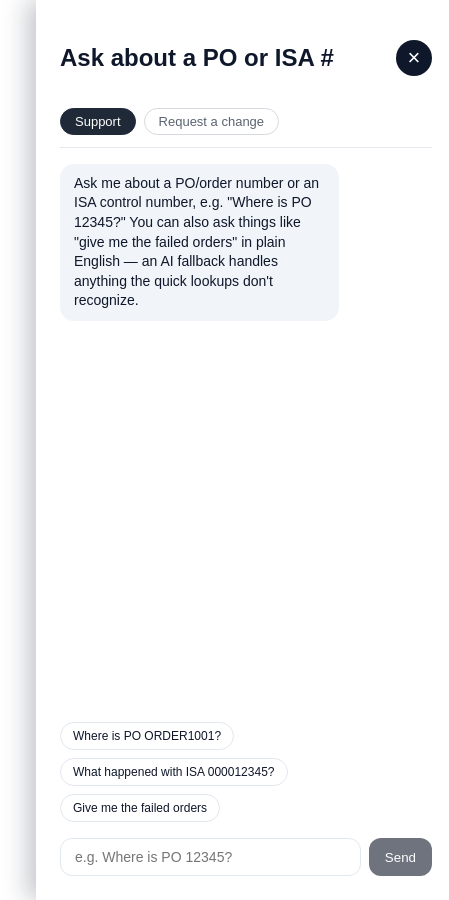
Scenario: ChatPanel › sends a question and shows the bot reply
Type "Where is PO ORDER1001?" into the field with placeholder "e.g. Where is PO 12345?". click: (210, 857)
box: [60,838,361,876]
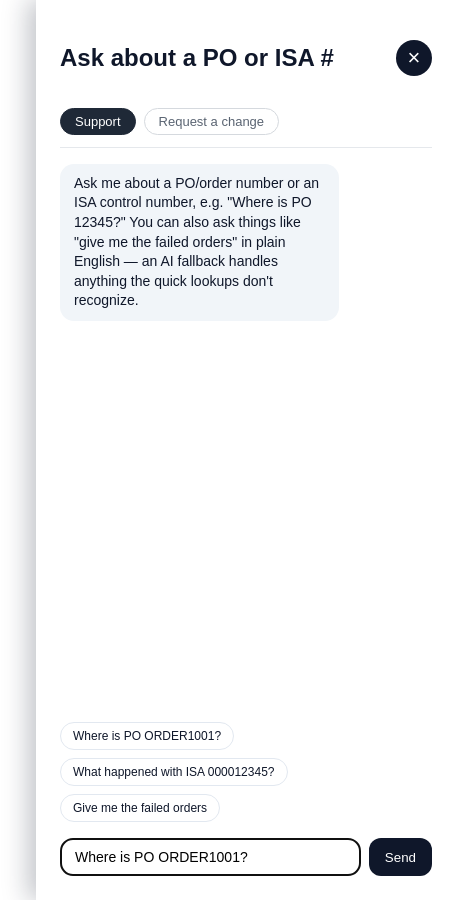
Click the button "Send". click: (400, 857)
box: [369,838,432,876]
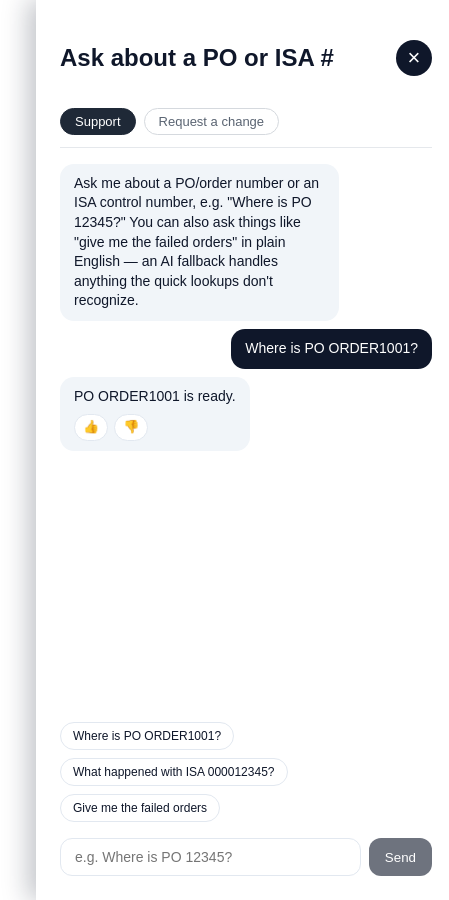
Expected: the text "PO ORDER1001 is ready." is shown, [74,388,236,404]
